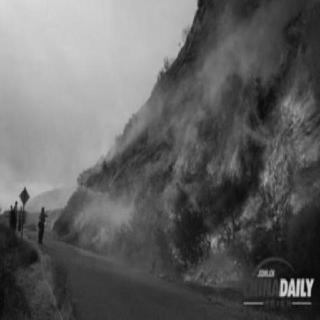Smoke: (182, 41, 316, 293)
